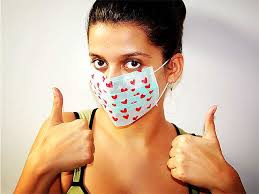with_mask: (87, 46, 184, 129)
